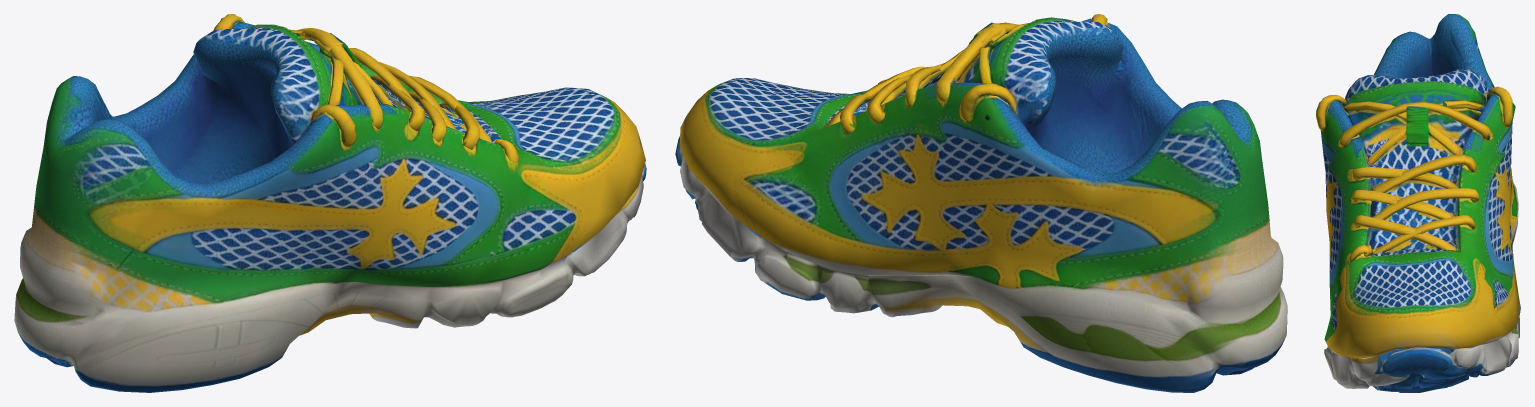
The model's file is brazil-runner.glb.
The picture shows the model from 3 angles, left to right: view 1: azimuth 30°, elevation 25°; view 2: azimuth 150°, elevation 25°; view 3: azimuth 270°, elevation 25°; orthographic projection. The views are drawn at different scales.
Visible parts, largest first — view 1: tripo_node_76939260-beb1-4541-a311-5f3dc105ea45; view 2: tripo_node_76939260-beb1-4541-a311-5f3dc105ea45; view 3: tripo_node_76939260-beb1-4541-a311-5f3dc105ea45.
Part boxes in pixels (x1=…): tripo_node_76939260-beb1-4541-a311-5f3dc105ea45: x1=14, y1=14, x2=646, y2=392; tripo_node_76939260-beb1-4541-a311-5f3dc105ea45: x1=675, y1=14, x2=1287, y2=392; tripo_node_76939260-beb1-4541-a311-5f3dc105ea45: x1=1316, y1=14, x2=1520, y2=392.
Bounding box in the file's own units: 1.02 × 0.4765 × 0.3855.
1 material, 1 textured.
